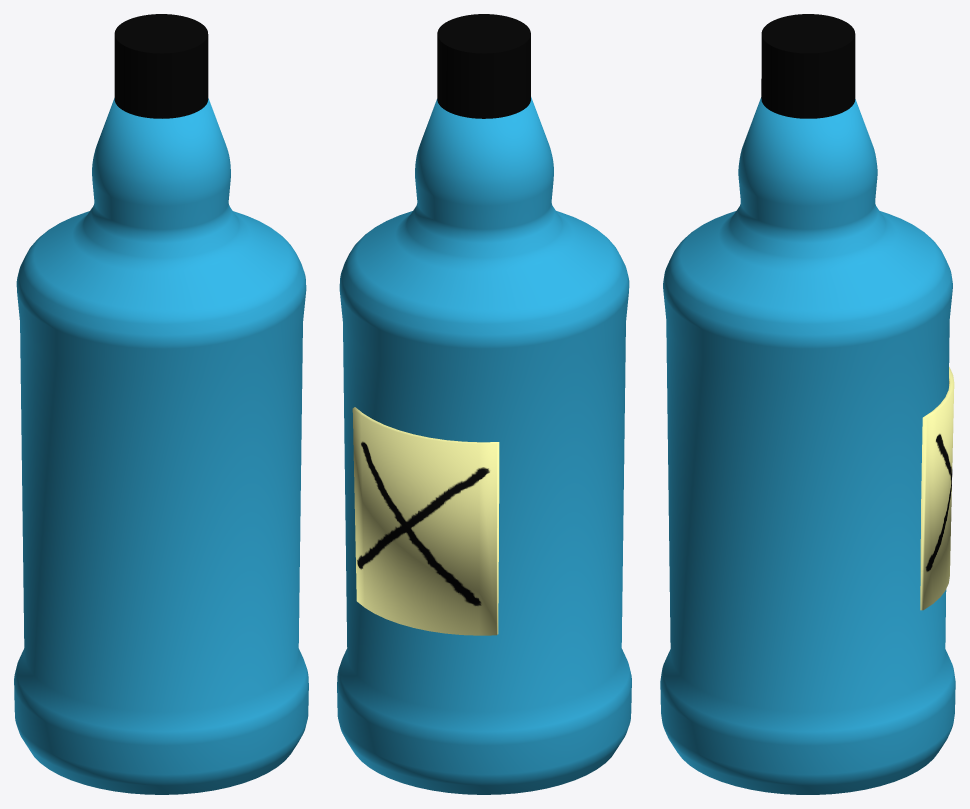
File: Botella_X_Vodka.fbx
3 views of the same model, side by side, from view 1: azimuth 30°, elevation 25°; view 2: azimuth 150°, elevation 25°; view 3: azimuth 270°, elevation 25° (orthographic).
Parts seen in each view (by area): view 1: Botella_X_vodka, Tapon.001; view 2: Botella_X_vodka, pegatina, Tapon.001; view 3: Botella_X_vodka, Tapon.001, pegatina.
Part boxes in pixels (left/top/right/bottom): Botella_X_vodka: left=14, top=98, right=308, bottom=794; Tapon.001: left=114, top=14, right=208, bottom=118; Botella_X_vodka: left=337, top=97, right=631, bottom=794; pegatina: left=352, top=407, right=499, bottom=635; Tapon.001: left=437, top=14, right=530, bottom=118; Botella_X_vodka: left=660, top=97, right=955, bottom=794; Tapon.001: left=761, top=14, right=855, bottom=118; pegatina: left=920, top=367, right=954, bottom=610.
Bounding box in the file's own units: 8.81 × 23.6 × 8.83.
